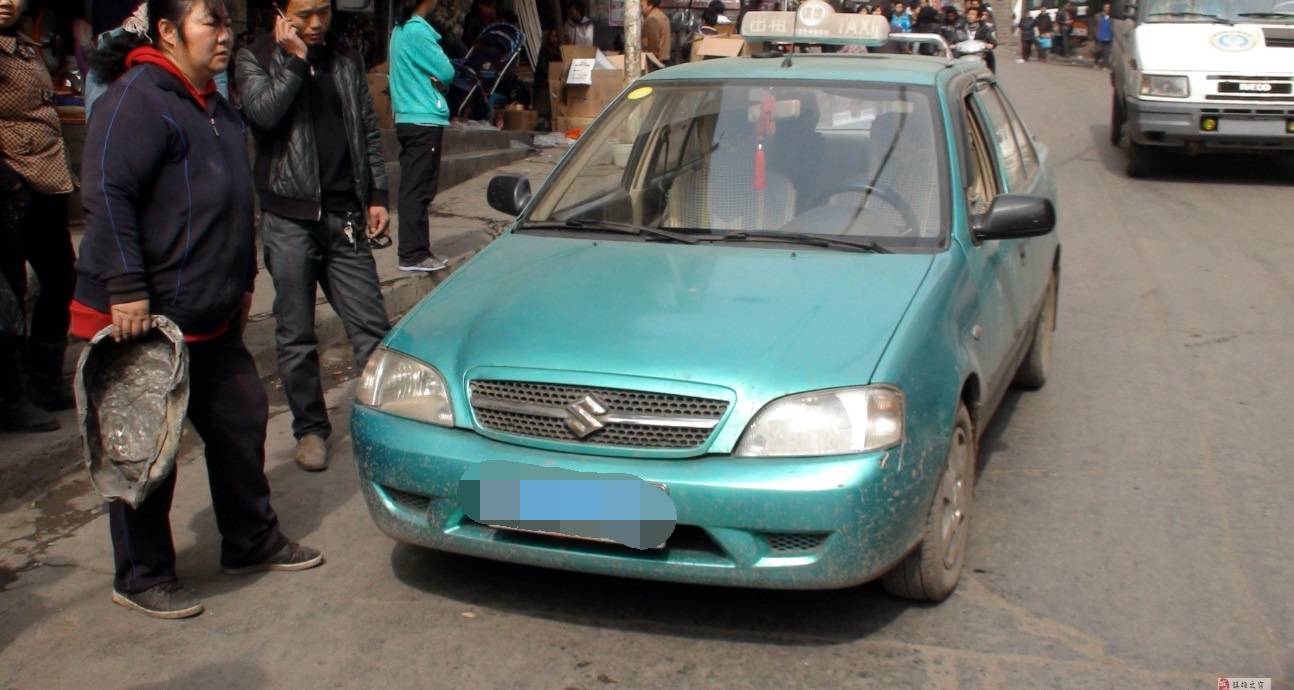taxi: (359, 34, 1075, 615)
